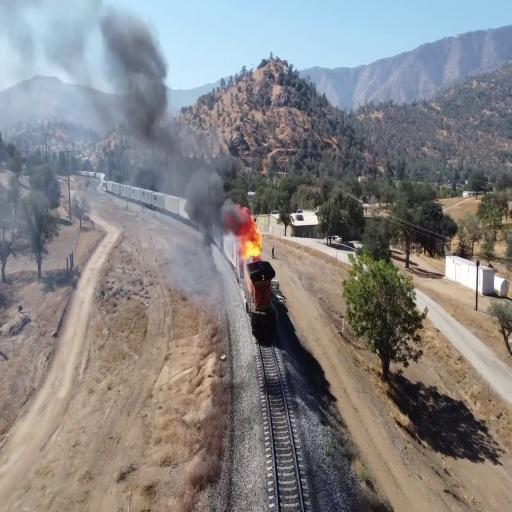fire: (237, 209, 268, 259)
smoke: (105, 13, 172, 158), (184, 157, 225, 235)
